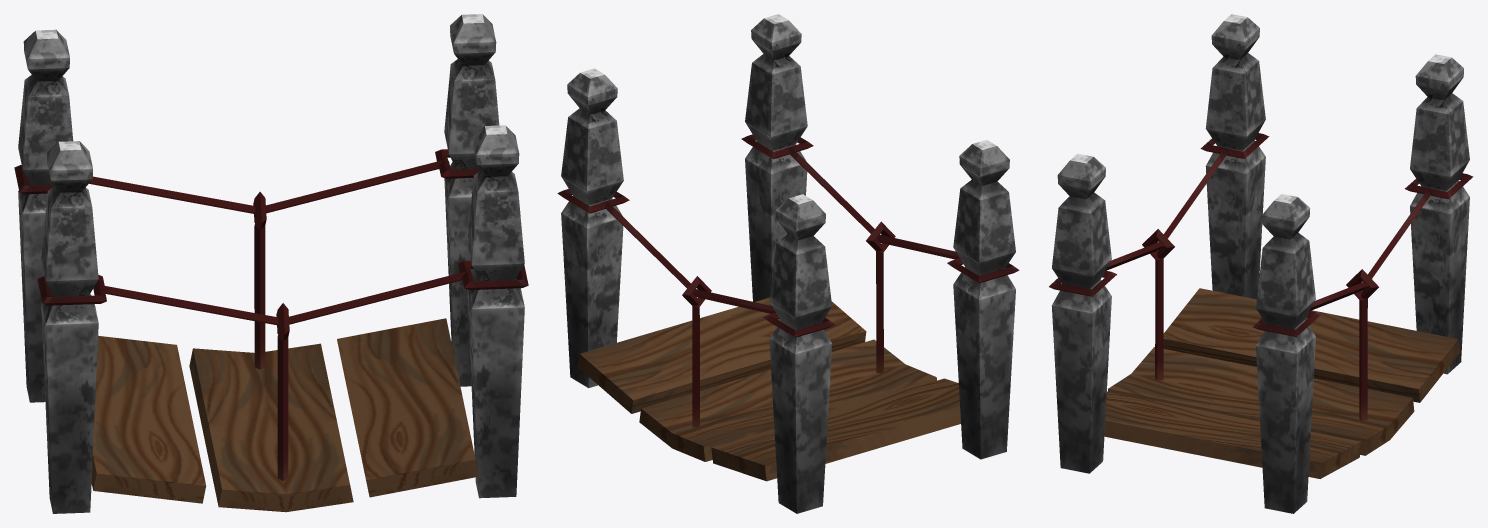
The model's file is Bridge_Second.FBX.
3 views of the same model, side by side, from view 1: azimuth 30°, elevation 25°; view 2: azimuth 150°, elevation 25°; view 3: azimuth 270°, elevation 25° (orthographic). The views are drawn at different scales.
Parts seen in each view (by area): view 1: Object001; view 2: Object001; view 3: Object001.
Part boxes in pixels (bbox=[...]): Object001: bbox=[14, 14, 528, 513]; Object001: bbox=[557, 14, 1019, 513]; Object001: bbox=[1049, 14, 1473, 513].
Size of the model in its own units: 608 by 417 by 524.
